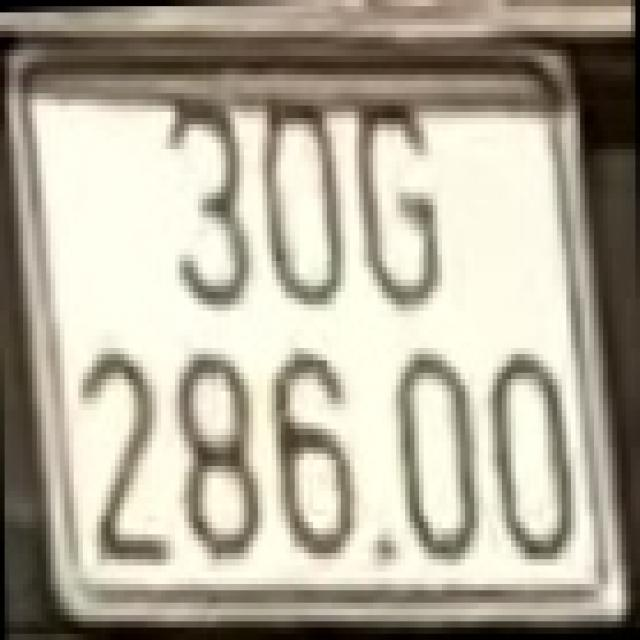0: (262, 93, 346, 305), (492, 348, 576, 559), (396, 348, 479, 559)
2: (74, 342, 170, 565)
3: (157, 93, 253, 311)
6: (272, 348, 354, 559)
8: (180, 348, 262, 559)
G: (354, 93, 446, 311)
